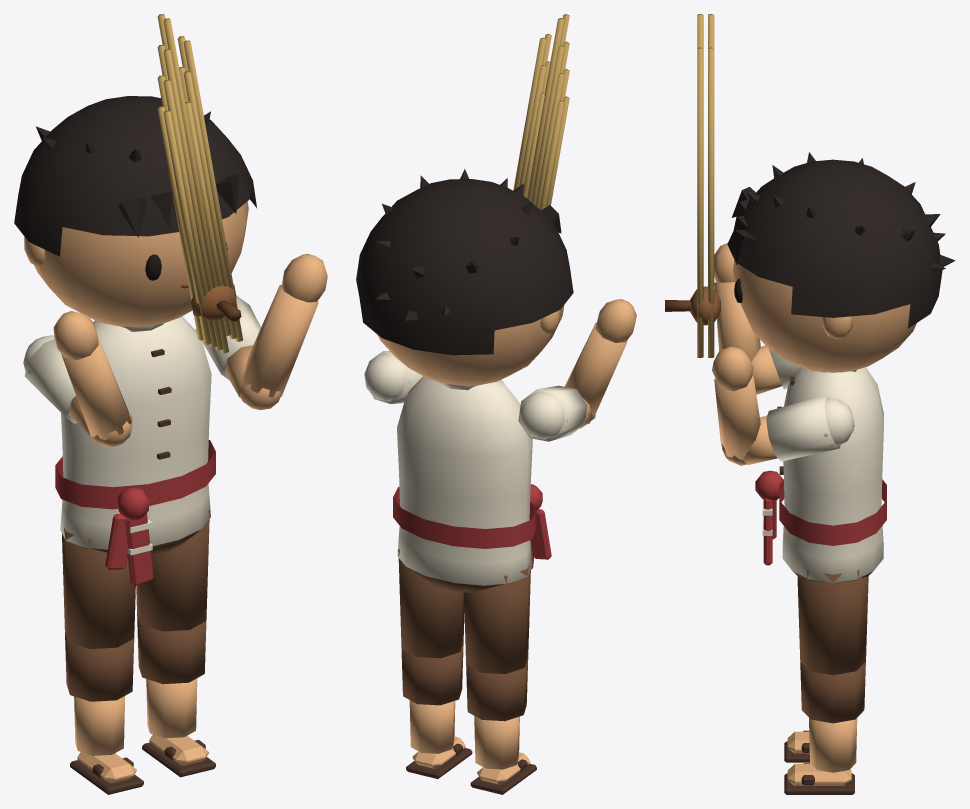
File: isan_khaen_player.glb
The picture shows the model from 3 angles, left to right: view 1: azimuth 30°, elevation 25°; view 2: azimuth 150°, elevation 25°; view 3: azimuth 270°, elevation 25°; orthographic projection. The views are drawn at different scales.
Visible parts, largest first — view 1: head, body, prop_khaen, shin_L, shin_R, leg_R, forearm_L, leg_L, forearm_R, arm_R, arm_L; view 2: head, body, prop_khaen, shin_L, shin_R, leg_R, leg_L, forearm_R, arm_R, arm_L; view 3: head, body, shin_L, leg_L, prop_khaen, arm_L, forearm_L, forearm_R, arm_R, shin_R.
Part boxes in pixels (x1,y1,x2,y2): head: [14, 96, 256, 326]; body: [55, 316, 215, 585]; prop_khaen: [157, 14, 242, 353]; shin_L: [137, 613, 215, 777]; shin_R: [65, 632, 143, 794]; leg_R: [62, 527, 135, 648]; forearm_L: [240, 254, 327, 408]; leg_L: [136, 509, 209, 631]; forearm_R: [53, 311, 131, 444]; arm_R: [23, 335, 132, 446]; arm_L: [195, 295, 280, 409]; head: [356, 169, 573, 385]; body: [393, 376, 551, 592]; prop_khaen: [513, 14, 569, 210]; shin_L: [401, 642, 472, 778]; shin_R: [466, 658, 536, 794]; leg_R: [464, 565, 530, 673]; leg_L: [398, 549, 464, 658]; forearm_R: [564, 299, 636, 424]; arm_R: [518, 385, 595, 441]; arm_L: [364, 351, 422, 403]; head: [727, 152, 955, 372]; body: [755, 367, 886, 582]; shin_L: [784, 662, 865, 794]; leg_L: [797, 569, 868, 675]; prop_khaen: [665, 14, 720, 357]; arm_L: [722, 395, 854, 465]; forearm_L: [712, 346, 760, 463]; forearm_R: [714, 243, 760, 362]; arm_R: [751, 345, 799, 394]; shin_R: [784, 730, 809, 762].
Size of the model in its own units: 0.6352 by 1.82 by 0.6481.
